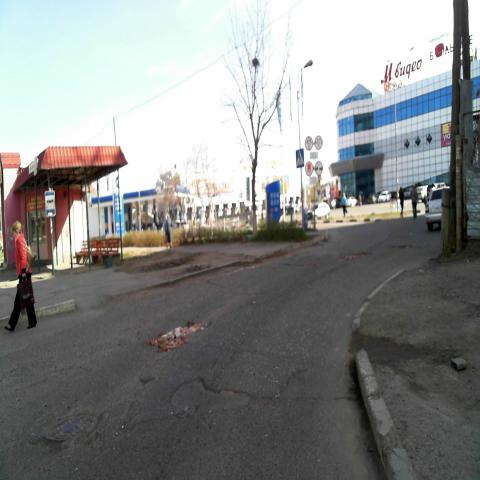3_14: (315, 136, 322, 150)
3_16: (315, 160, 323, 176)
3_32: (306, 160, 314, 174)
